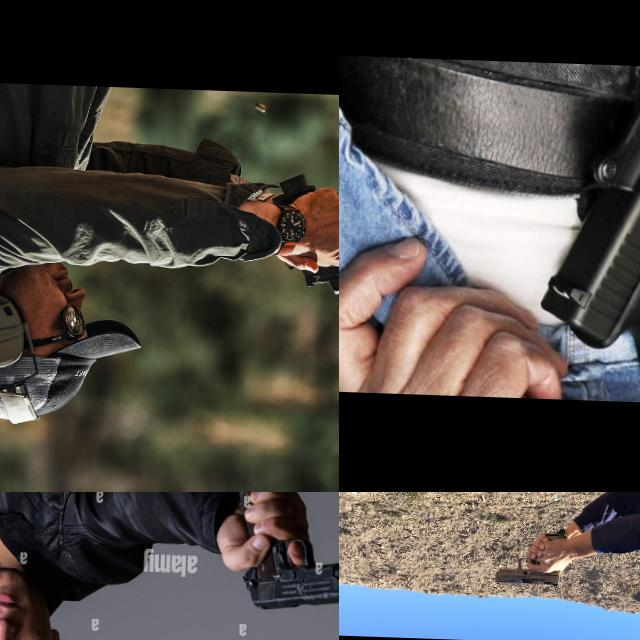handgun: (530, 171, 640, 405), (235, 531, 339, 616), (295, 215, 339, 300), (490, 555, 562, 588)
